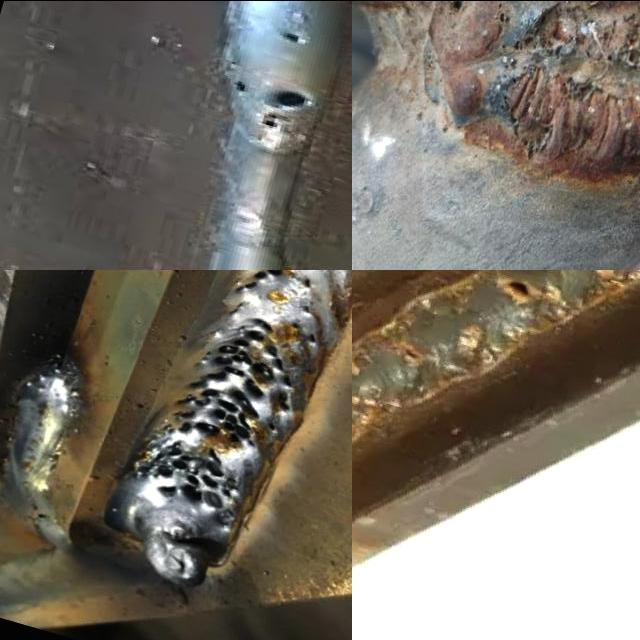defect: (167, 321, 296, 448), (134, 436, 240, 516), (497, 70, 555, 153), (509, 0, 567, 66), (260, 85, 314, 131), (225, 269, 291, 297), (551, 72, 588, 110), (620, 24, 640, 71), (220, 74, 256, 99), (276, 29, 309, 50), (499, 278, 531, 299), (494, 0, 514, 31), (393, 342, 422, 362), (222, 303, 246, 321), (297, 276, 319, 294), (445, 0, 465, 19), (306, 330, 322, 345), (286, 320, 301, 330), (301, 302, 314, 313)
